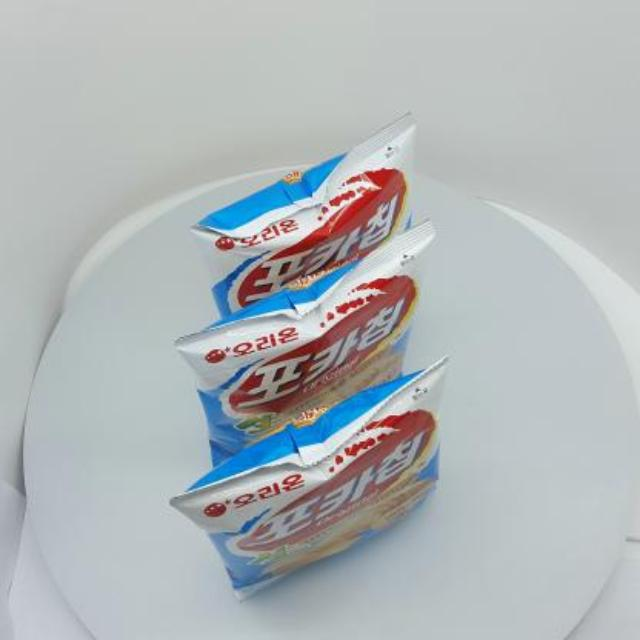snack_bag: (150, 77, 494, 618)
